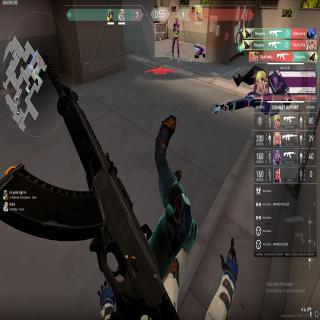ENEMY-BODY: (171, 15, 180, 63)
ENEMY-HEAD: (175, 15, 178, 23)
